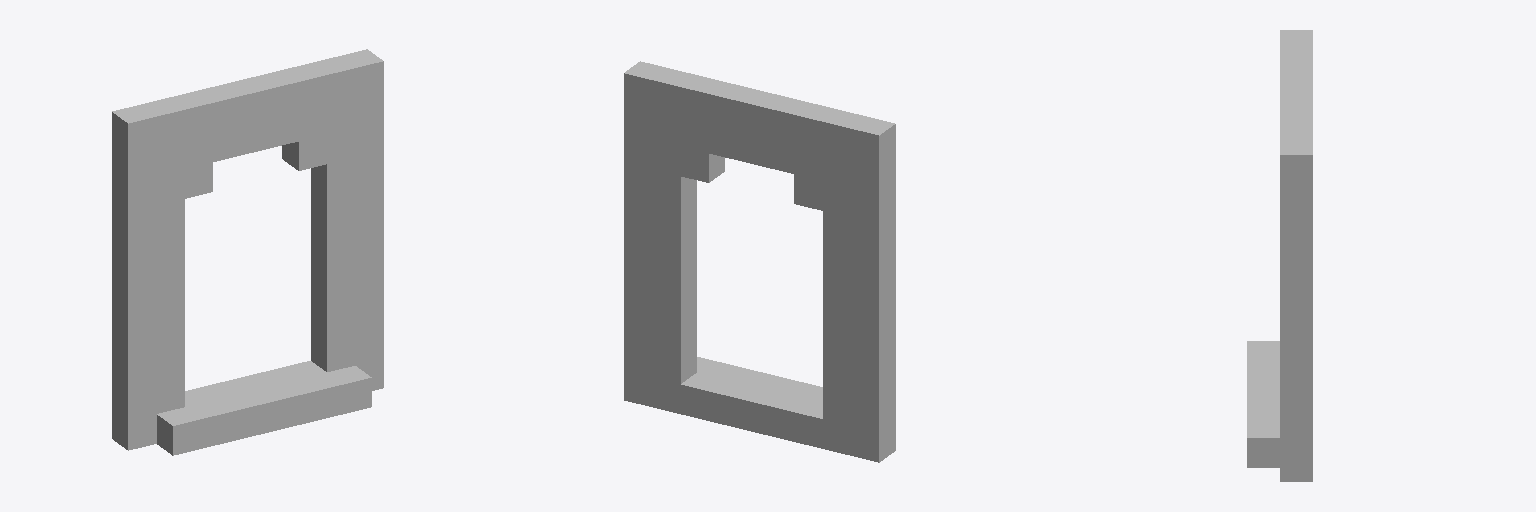
Rendered from Arch2.obj.
The picture shows the model from 3 angles: view 1: azimuth 30°, elevation 25°; view 2: azimuth 150°, elevation 25°; view 3: azimuth 270°, elevation 25°; orthographic projection.
Parts seen in each view (by area): view 1: BuildingPieces.010; view 2: BuildingPieces.010; view 3: BuildingPieces.010.
Part boxes in pixels (x1,y1,x2,y2): BuildingPieces.010: (112,49,383,455); BuildingPieces.010: (624,61,895,462); BuildingPieces.010: (1247,30,1312,481).
Size of the model in its own units: 0.9 by 1.1 by 0.2.